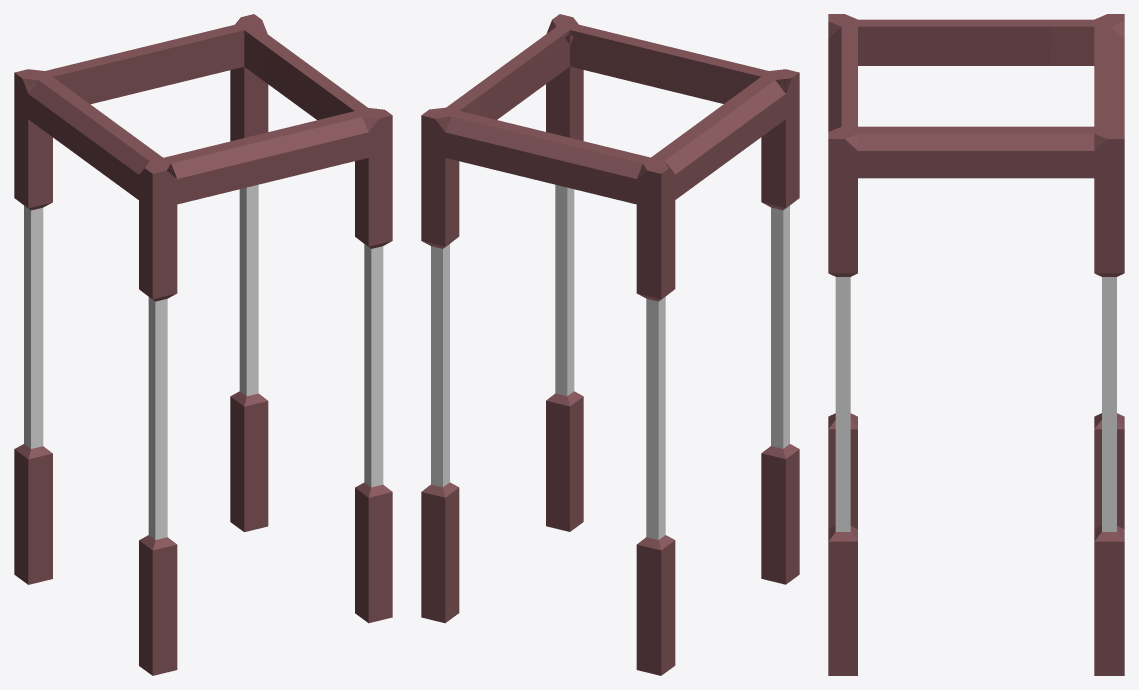
Rendered from Frame3.fbx.
3 renders of one model, left to right at view 1: azimuth 30°, elevation 25°; view 2: azimuth 150°, elevation 25°; view 3: azimuth 270°, elevation 25°, orthographic. The views are drawn at different scales.
Parts seen in each view (by area): view 1: Cube; view 2: Cube; view 3: Cube.
Part boxes in pixels (left/top/right/bottom): Cube: left=14, top=14, right=392, bottom=675; Cube: left=421, top=14, right=799, bottom=675; Cube: left=828, top=14, right=1124, bottom=675.
Size of the model in its own units: 400 by 800 by 400.
